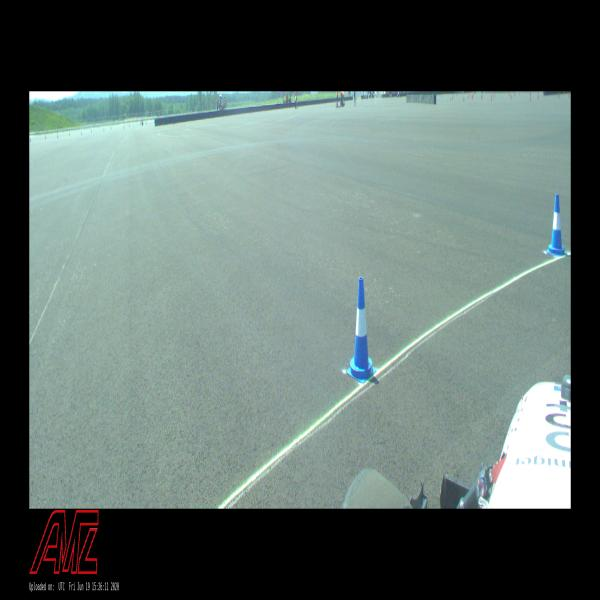blue_cone: (346, 276, 377, 384), (546, 195, 568, 256)
